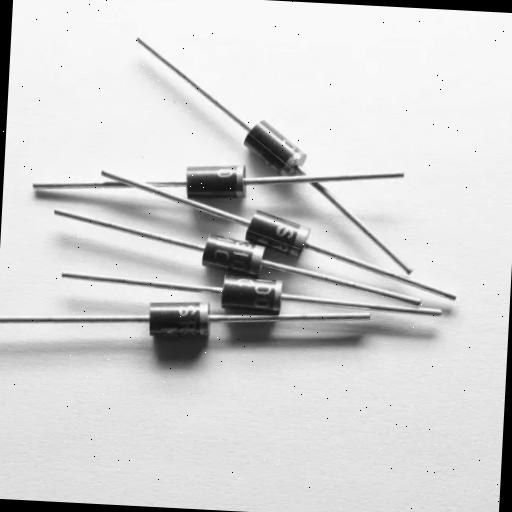DIODE: (0, 30, 470, 357), (134, 290, 265, 364), (160, 146, 286, 210), (182, 234, 296, 298), (229, 104, 321, 178), (209, 268, 317, 322), (238, 198, 328, 260)
